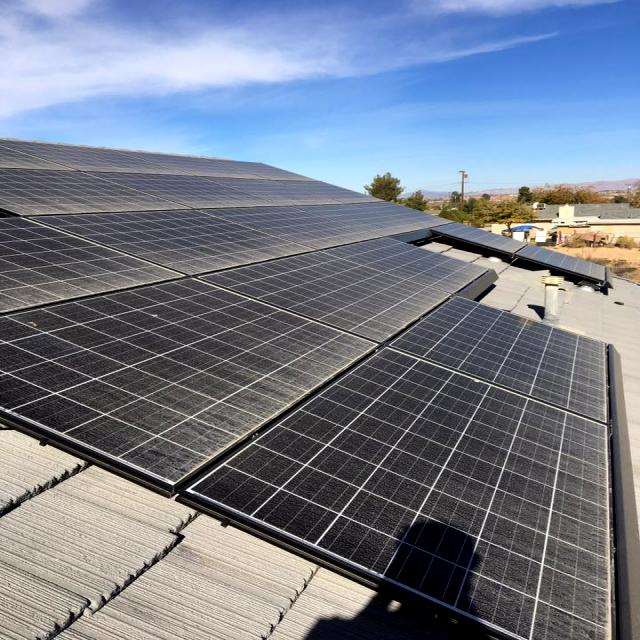dust: (284, 432, 624, 546), (56, 317, 266, 439), (305, 285, 458, 395), (505, 578, 604, 638)
